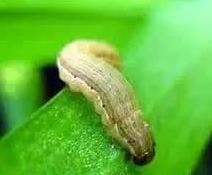caterpillars: (48, 25, 176, 173)
